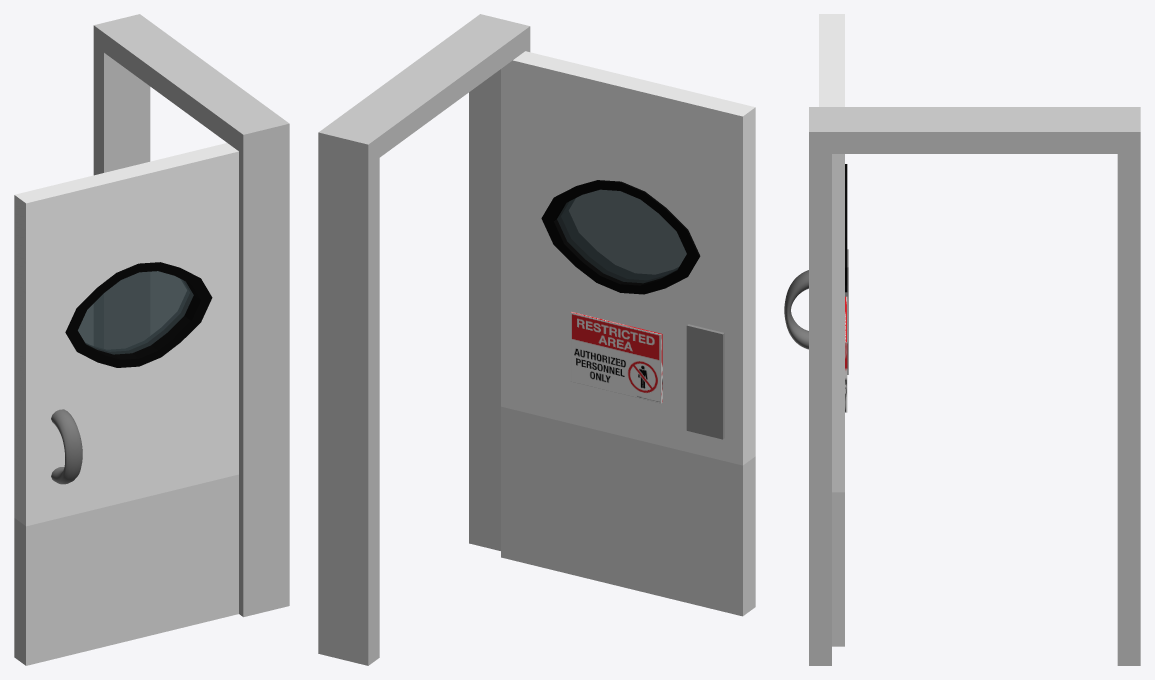
The model's file is lab_door.fbx.
3 views of the same model, side by side, from view 1: azimuth 30°, elevation 25°; view 2: azimuth 150°, elevation 25°; view 3: azimuth 270°, elevation 25° (orthographic). The views are drawn at different scales.
Visible parts, largest first — view 1: NurbsPath.001, Cube.006; view 2: NurbsPath.001, Cube.006; view 3: Cube.006, NurbsPath.001.
Part boxes in pixels (x1,y1,x2,y2): NurbsPath.001: (14,143,238,665); Cube.006: (93,14,289,617); NurbsPath.001: (501,51,755,616); Cube.006: (318,14,530,665); Cube.006: (809,107,1140,665); NurbsPath.001: (784,14,848,646).
Size of the model in its own units: 116 by 206 by 125.
